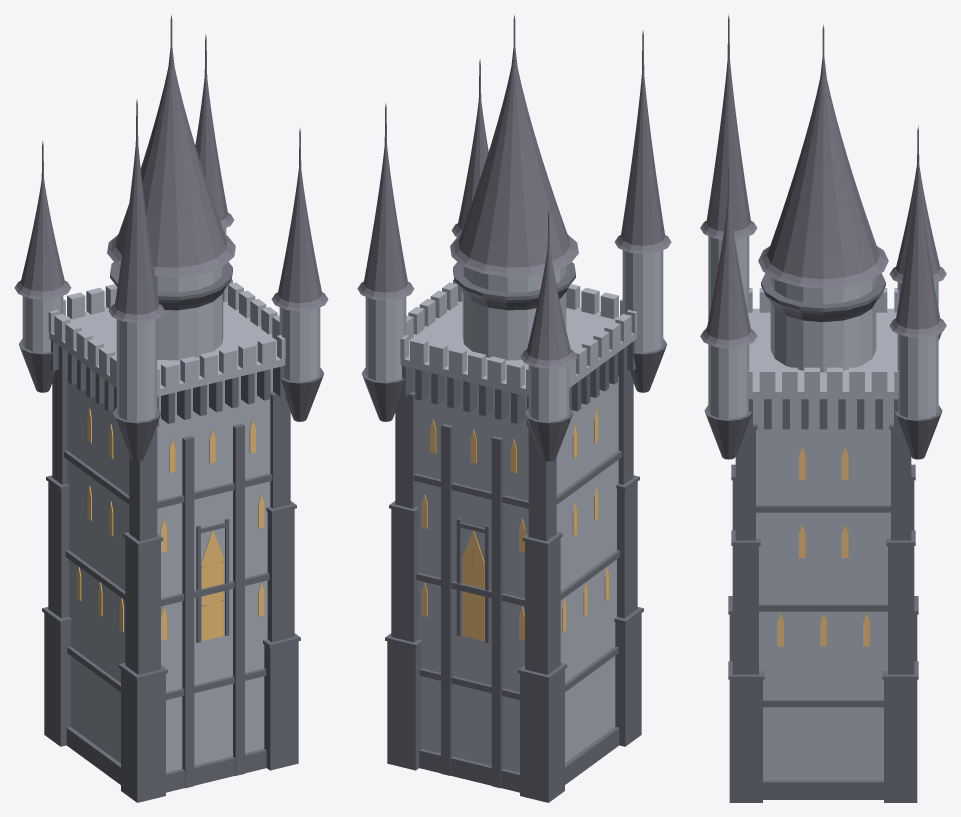
The model's file is ExtKeep.fbx.
3 views of the same model, side by side, from view 1: azimuth 30°, elevation 25°; view 2: azimuth 150°, elevation 25°; view 3: azimuth 270°, elevation 25° (orthographic).
Visible parts, largest first — view 1: ExtKeep; view 2: ExtKeep; view 3: ExtKeep.
Boxes of the visible parts, x1,y1,x2,y2 form: ExtKeep: [14, 14, 328, 802]; ExtKeep: [357, 14, 671, 802]; ExtKeep: [700, 14, 946, 802].
Size of the model in its own units: 12.64 by 41.8 by 12.64.
